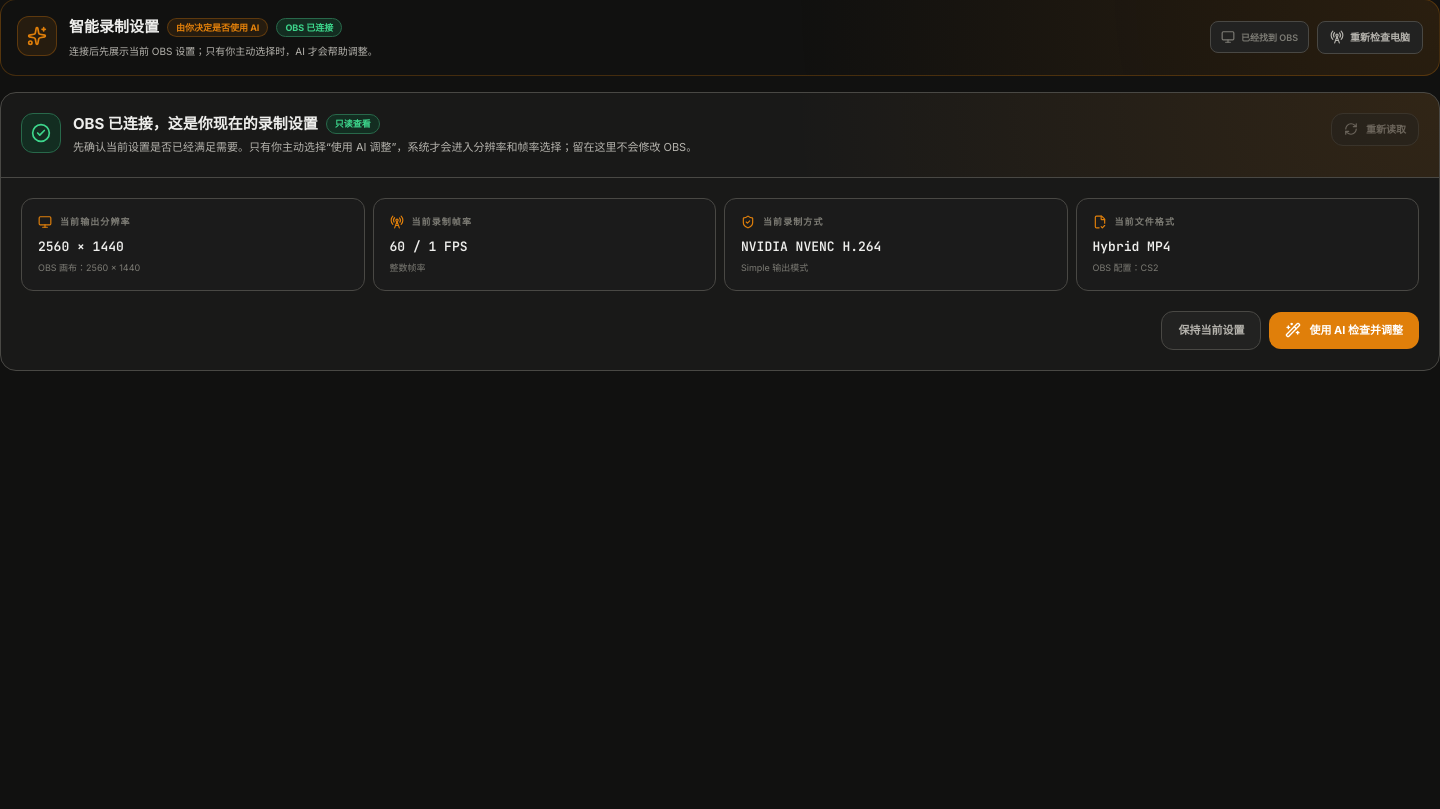
Test: ObsAiSettingsPanel connection gate › shows AI review, runs the full test, and opens the validation report
Click the button "使用 AI 检查并调整": (1344, 330) [1270,312,1419,349]
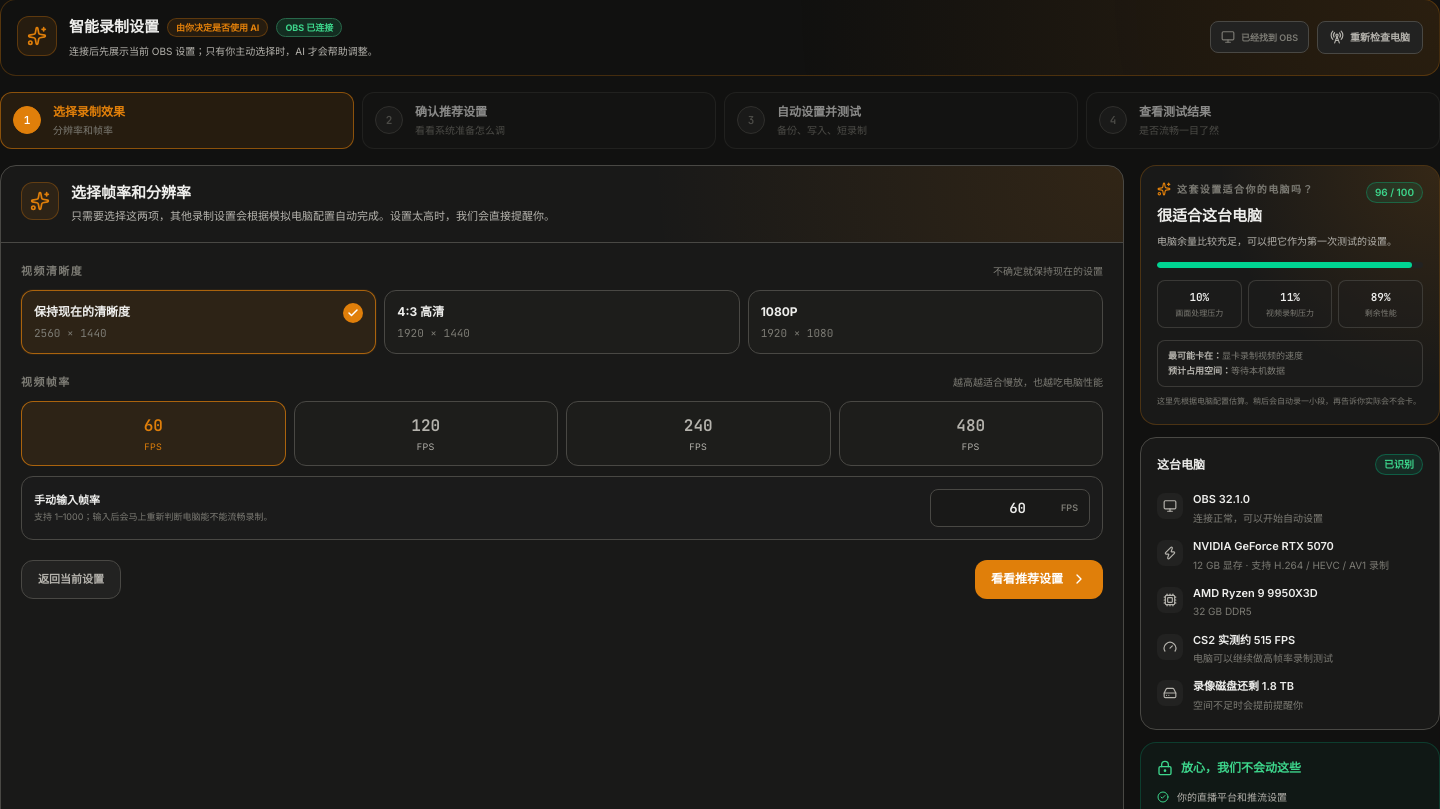
Click the button "480 FPS": (971, 433) [838,401,1103,466]
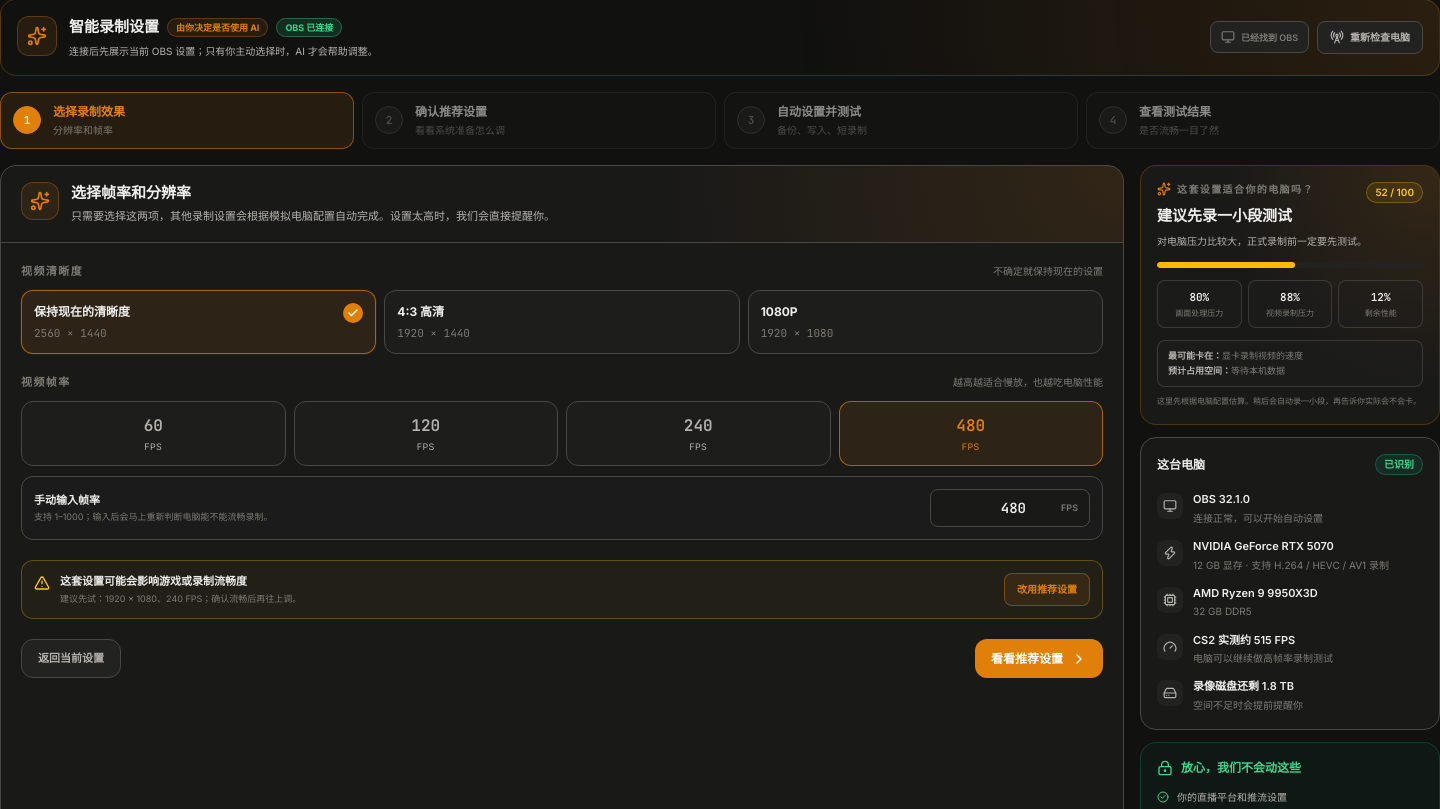
Click the button "看看推荐设置": (1039, 659) [975,639,1103,678]
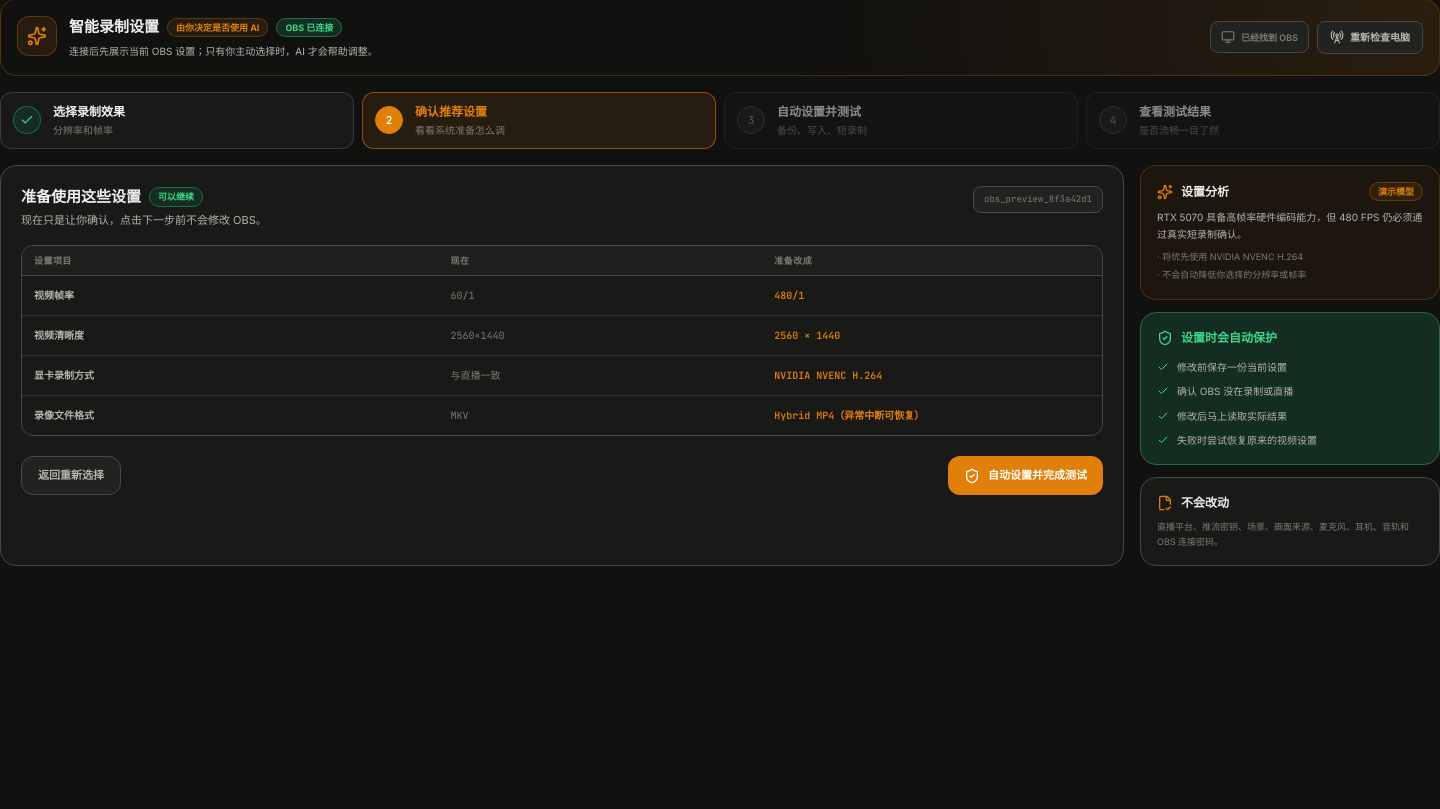
Result: the text "设置分析" is shown at [1157,182,1229,200]
Result: the text "RTX 5070 具备高帧率硬件编码能力，但 480 FPS 仍必须通过真实短录制确认。" is shown at [1157,209,1423,242]
Click the button "自动设置并完成测试": (1026, 476) [948,456,1103,495]
(page scrolled)
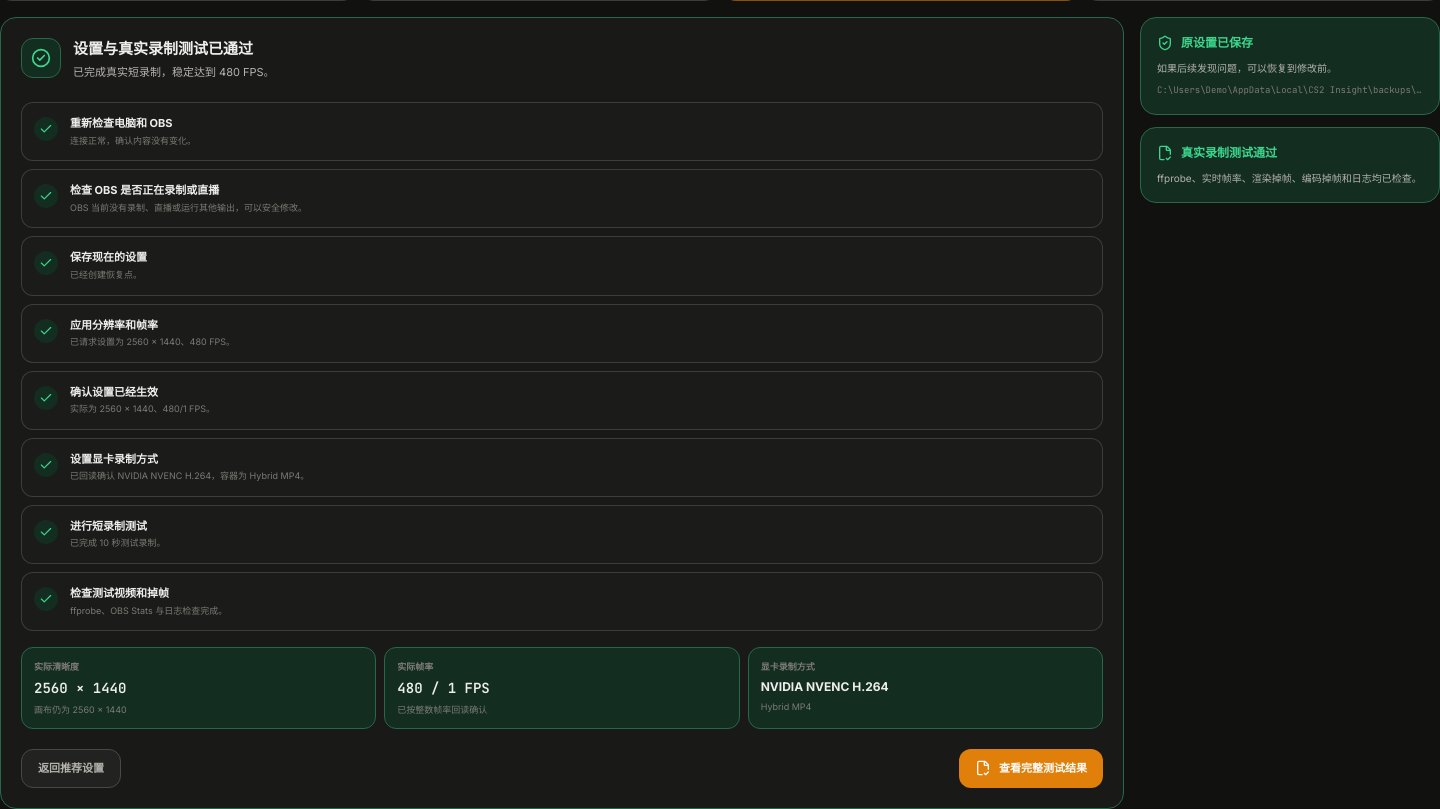
Result: the heading "设置与真实录制测试已通过" is shown at [73,38,275,60]
Result: the text "480 / 1 FPS" is shown at [397,679,490,697]
Result: the text "真实录制测试通过" is shown at [1157,144,1277,160]
Click the button "查看完整测试结果": (1031, 768) [959,749,1103,788]
(page scrolled)
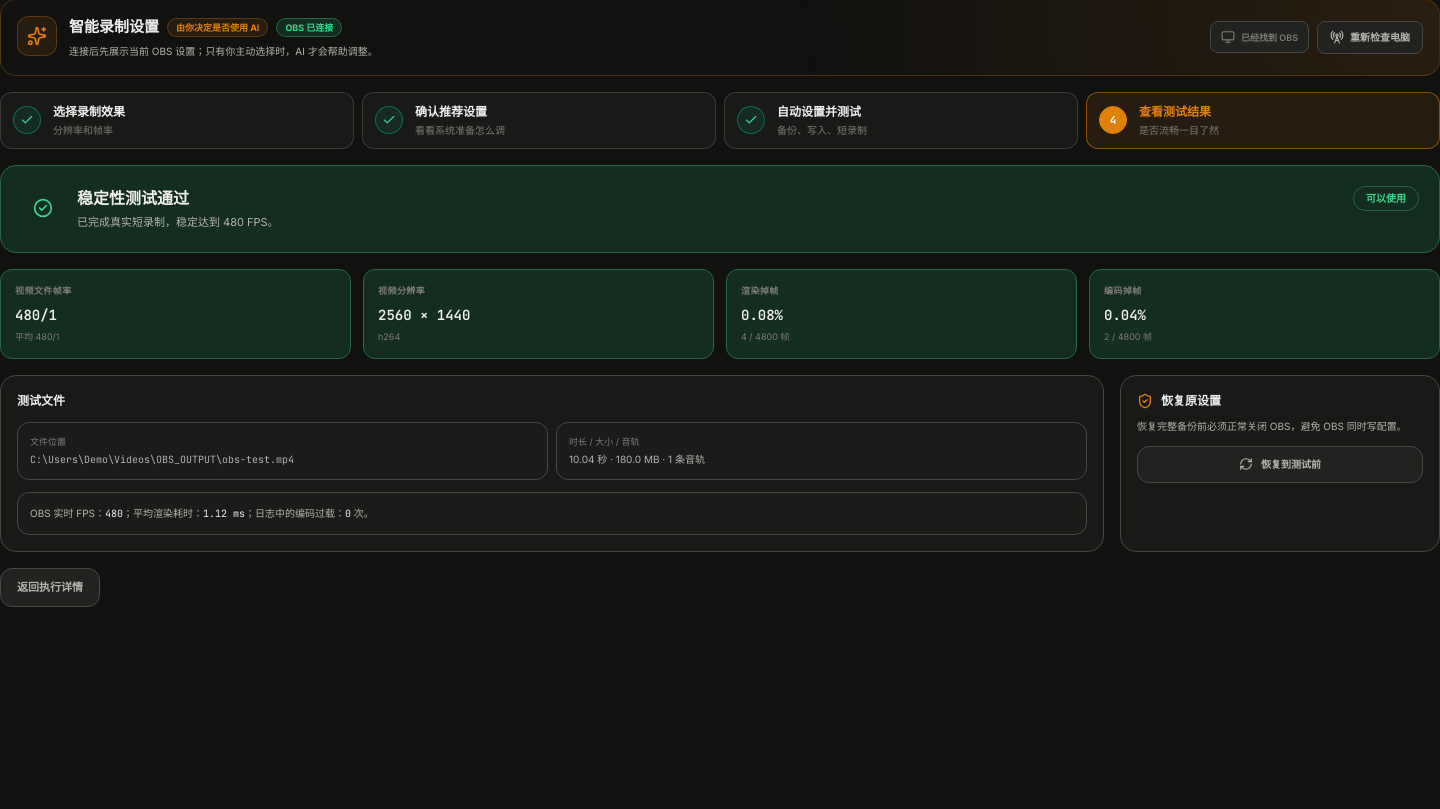
Result: the heading "稳定性测试通过" is shown at [77,188,189,208]
Result: the text "480/1" is shown at [15,306,57,324]
Result: the text "0.08%" is shown at [741,306,783,324]
